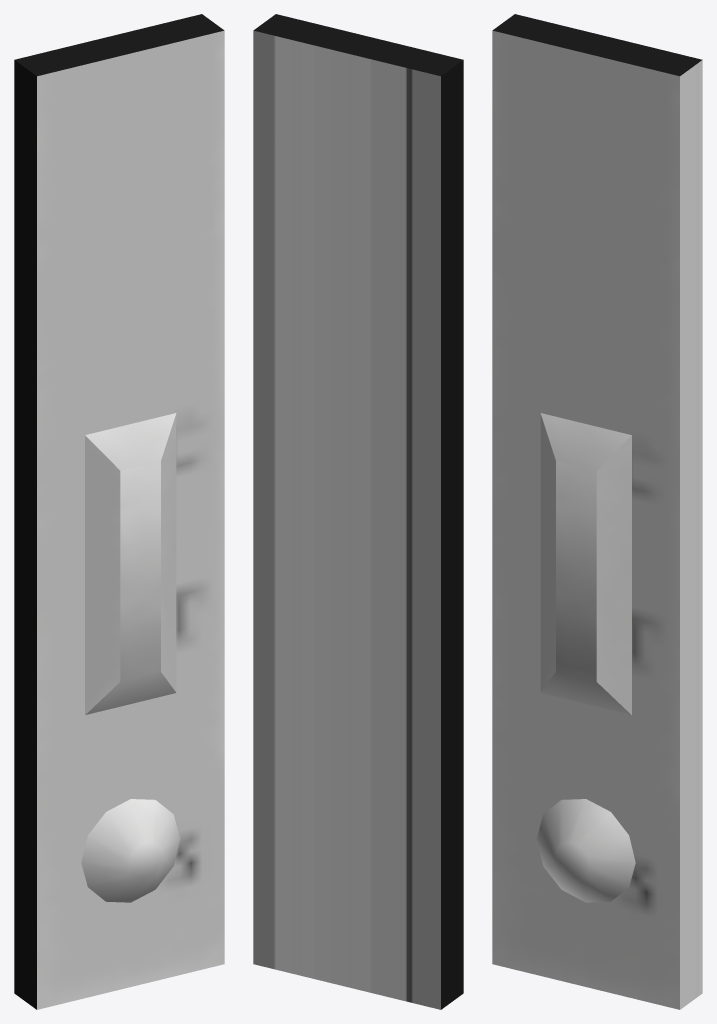
The model's file is 胶体金试纸.glb.
The picture shows the model from 3 angles, left to right: view 1: azimuth 30°, elevation 25°; view 2: azimuth 150°, elevation 25°; view 3: azimuth 330°, elevation 25°; orthographic projection.
Visible parts, largest first — view 1: Box088, Box089, Cylinder223; view 2: Box088; view 3: Box088, Box089, Cylinder223.
Boxes of the visible parts, bbox=[...] form: Box088: bbox=[14, 14, 224, 1009]; Box089: bbox=[85, 413, 176, 714]; Cylinder223: bbox=[81, 799, 180, 902]; Box088: bbox=[253, 14, 463, 1009]; Box088: bbox=[492, 14, 702, 1009]; Box089: bbox=[540, 413, 631, 714]; Cylinder223: bbox=[536, 799, 635, 902].
Size of the model in its own units: 0.00212 by 0.0101 by 0.000721.
Materials: 1 (1 with a texture image).
